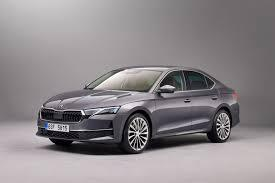skoda: (59, 103, 66, 109)
